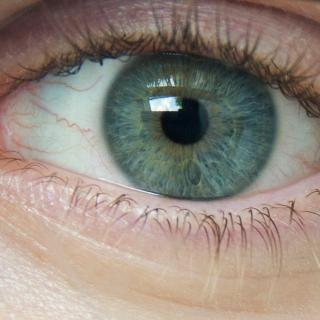pupil: (162, 98, 207, 143)
